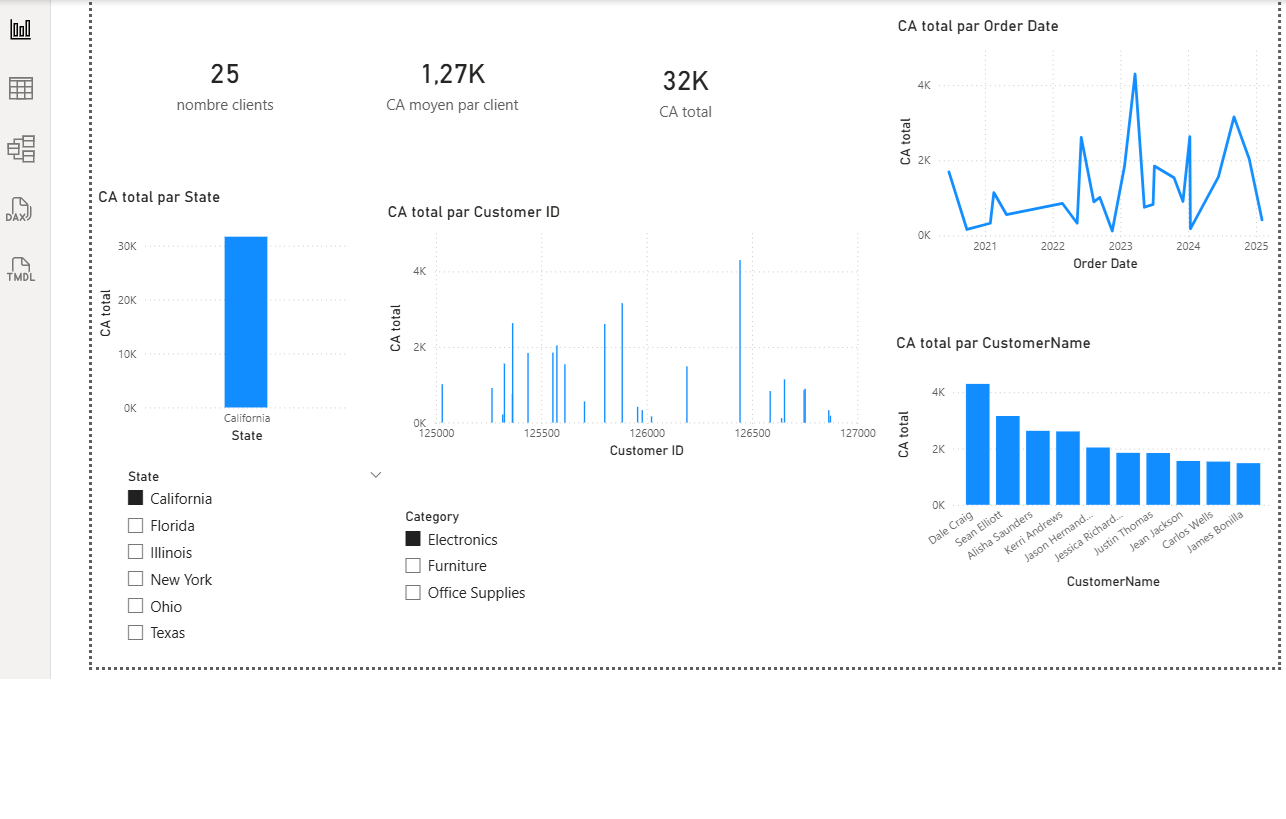

What the dashboard file says about the page in this screenshot:
{"tool":"powerbi","page":{"name":"Page 1","canvas":[1280,720],"ordinal":0},"visuals":[{"type":"card","fields":{"Values":["sales international1.CA total"]},"box":[500.3,0,280.1,191.1],"z":0},{"type":"card","fields":{"Values":["sales international1.CA moyen par client"]},"box":[249.4,0,278.5,176.5],"z":1000},{"type":"card","fields":{"Values":["sales international1.nombre clients"]},"box":[3.2,0,280.1,174.9],"z":2000},{"type":"clusteredColumnChart","fields":{"Category":["sales international1.State"],"Y":["sales international1.CA total"]},"box":[1.6,202.4,280.1,280.1],"z":3000},{"type":"clusteredColumnChart","fields":{"Category":["sales international1.Customer ID"],"Y":["sales international1.CA total"]},"box":[314.1,218.6,537.6,280.1],"z":4000},{"type":"clusteredColumnChart","fields":{"Category":["sales international1.CustomerName"],"Y":["sales international1.CA total"]},"box":[863,359.5,416.1,280.1],"z":5000},{"type":"lineChart","fields":{"Category":["sales international1.Order Date"],"Y":["sales international1.CA total"]},"box":[864,18,416,279],"z":6000},{"type":"slicer","fields":{"Values":["sales international1.State"]},"box":[25.9,500.3,299.6,213.7],"z":7000},{"type":"slicer","fields":{"Values":["sales international1.Category"]},"box":[325.5,544.1,299.6,155.4],"z":8000}]}

Visuals, with their boxes on the page's 1280x720 design canvas (x1, y1, x2, y2). These are canvas units, not pixel positions in the 1286x819 screenshot, which may show the page scaled, cropped or inside an application window:
card - sales international1.CA total: (500,0,780,191)
card - sales international1.CA moyen par client: (249,0,528,176)
card - sales international1.nombre clients: (3,0,283,175)
clusteredColumnChart - sales international1.State x sales international1.CA total: (2,202,282,482)
clusteredColumnChart - sales international1.Customer ID x sales international1.CA total: (314,219,852,499)
clusteredColumnChart - sales international1.CustomerName x sales international1.CA total: (863,360,1279,640)
lineChart - sales international1.Order Date x sales international1.CA total: (864,18,1280,297)
slicer - sales international1.State: (26,500,326,714)
slicer - sales international1.Category: (326,544,625,700)
